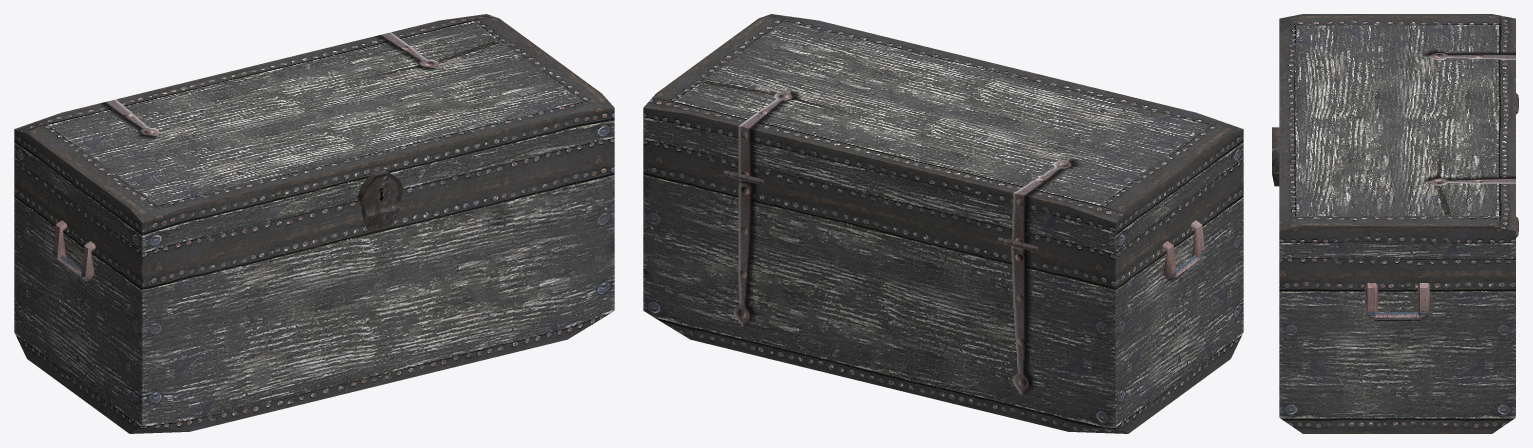
Rendered from lockbox_closed.fbx.
The picture shows the model from 3 angles, left to right: view 1: azimuth 30°, elevation 25°; view 2: azimuth 150°, elevation 25°; view 3: azimuth 270°, elevation 25°; orthographic projection. The views are drawn at different scales.
Visible parts, largest first — view 1: lock_box; view 2: lock_box; view 3: lock_box.
Boxes of the visible parts, x1,y1,x2,y2 form: lock_box: (14,14,614,433); lock_box: (643,14,1243,433); lock_box: (1272,14,1518,433).
Size of the model in its own units: 1.38 by 0.6038 by 0.6511.
